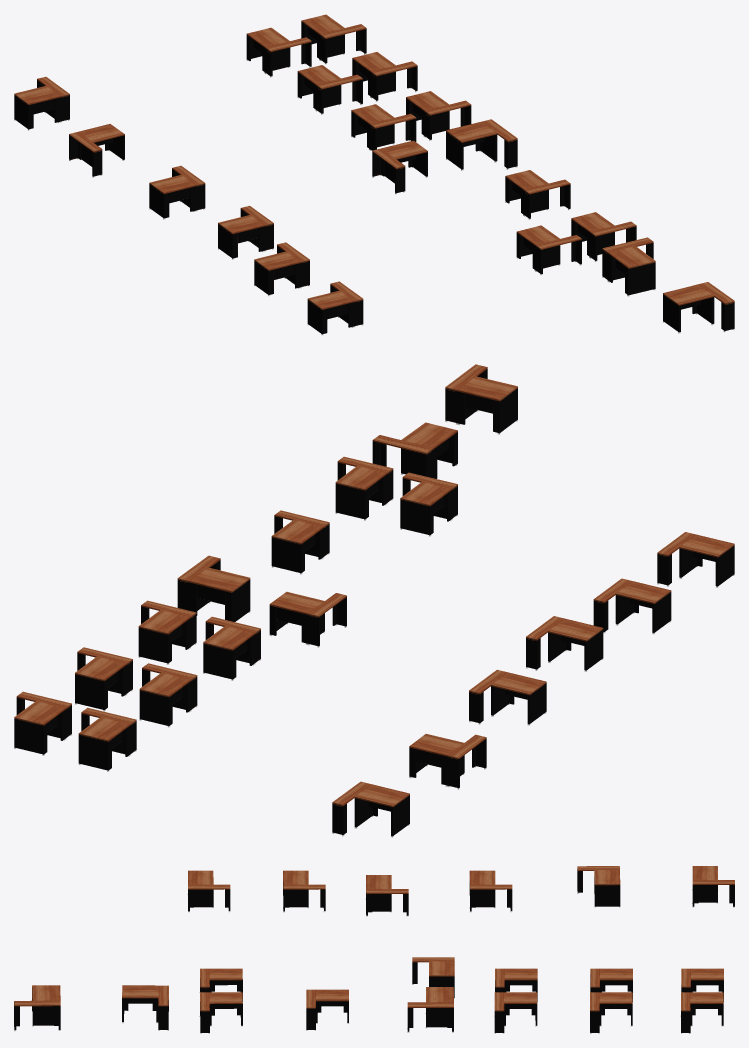
Rendered from escritorios_p2.glb.
The picture shows the model from 3 angles, top to bottom: view 1: azimuth 30°, elevation 25°; view 2: azimuth 150°, elevation 25°; view 3: azimuth 270°, elevation 25°; orthographic projection. The views are drawn at different scales.
Parts seen in each view (by area): view 1: a_mesa.284, a_mesa.282, a_mesa.280, a_mesa.291, a_mesa.270, a_mesa.283, a_mesa.277, a_mesa.290, a_mesa.279, a_mesa.288, a_mesa.275, a_mesa.276 (+7 smaller); view 2: a_mesa.282, a_mesa.280, a_mesa.284, a_mesa.271, a_mesa.276, a_mesa.286, a_mesa.279, a_mesa.288, a_mesa.289, a_mesa.285, a_mesa.275, a_mesa.287 (+7 smaller); view 3: a_mesa.282, a_mesa.280, a_mesa.284, a_mesa.278, a_mesa.270, a_mesa.291, a_mesa.290, a_mesa.277, a_mesa.283, a_mesa.286, a_mesa.276, a_mesa.289 (+7 smaller).
Part boxes in pixels (x1,y1,x2,y2): a_mesa.284: [602, 237, 655, 296]; a_mesa.282: [663, 282, 734, 333]; a_mesa.280: [446, 119, 517, 170]; a_mesa.291: [307, 281, 363, 335]; a_mesa.270: [149, 165, 205, 219]; a_mesa.283: [218, 205, 273, 259]; a_mesa.277: [14, 76, 69, 130]; a_mesa.290: [254, 242, 309, 296]; a_mesa.279: [297, 65, 362, 114]; a_mesa.288: [246, 27, 311, 77]; a_mesa.275: [516, 225, 581, 275]; a_mesa.276: [505, 170, 570, 219]; a_mesa.282: [445, 364, 517, 434]; a_mesa.280: [177, 555, 250, 621]; a_mesa.284: [372, 422, 457, 478]; a_mesa.271: [335, 456, 393, 520]; a_mesa.276: [271, 510, 329, 574]; a_mesa.286: [138, 600, 196, 664]; a_mesa.279: [139, 663, 197, 727]; a_mesa.288: [78, 707, 136, 771]; a_mesa.289: [14, 691, 71, 755]; a_mesa.285: [203, 616, 260, 680]; a_mesa.275: [400, 472, 457, 536]; a_mesa.287: [75, 647, 132, 711]; a_mesa.282: [14, 985, 60, 1031]; a_mesa.280: [407, 987, 453, 1032]; a_mesa.284: [122, 985, 169, 1030]; a_mesa.278: [577, 866, 620, 907]; a_mesa.270: [469, 870, 512, 912]; a_mesa.291: [187, 870, 230, 912]; a_mesa.290: [283, 870, 325, 912]; a_mesa.277: [692, 866, 734, 907]; a_mesa.283: [365, 875, 408, 916]; a_mesa.286: [494, 992, 537, 1033]; a_mesa.276: [306, 989, 349, 1030]; a_mesa.289: [680, 992, 723, 1033].
Size of the model in its own units: 55.27 by 4.62 by 117.
1 material, 1 textured.
